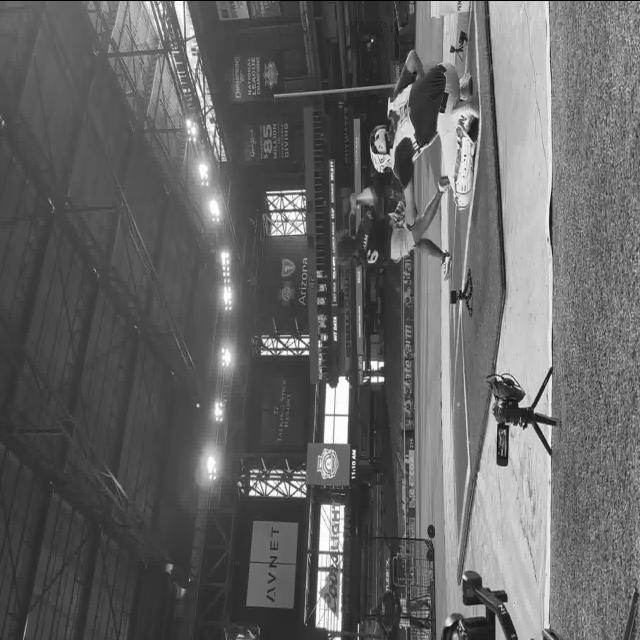baseball_glove: (393, 199, 406, 229)
bat: (353, 188, 377, 202)
shoe: (450, 102, 478, 124), (458, 72, 472, 99), (441, 250, 451, 281), (436, 175, 451, 193), (458, 30, 468, 48)
